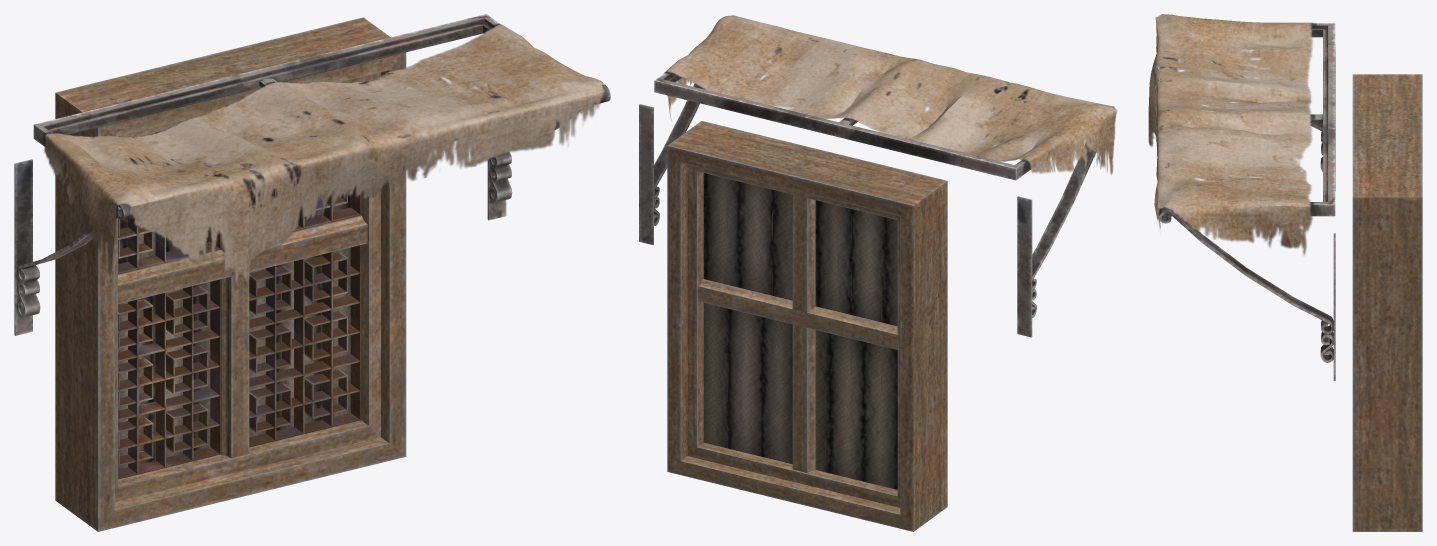
Rendered from xi_dsp_window_shade_close.gltf.
The picture shows the model from 3 angles, left to right: view 1: azimuth 30°, elevation 25°; view 2: azimuth 150°, elevation 25°; view 3: azimuth 270°, elevation 25°; orthographic projection. The views are drawn at different scales.
Visible parts, largest first — view 1: xi_dsp_window_shade_close; view 2: xi_dsp_window_shade_close; view 3: xi_dsp_window_shade_close.
Boxes of the visible parts, left/top/right/bottom form: xi_dsp_window_shade_close: left=14, top=14, right=610, bottom=531; xi_dsp_window_shade_close: left=639, top=15, right=1116, bottom=531; xi_dsp_window_shade_close: left=1148, top=14, right=1422, bottom=531.
Size of the model in its own units: 2.08 by 1.76 by 1.21.
Materials: 1 (1 with a texture image).
